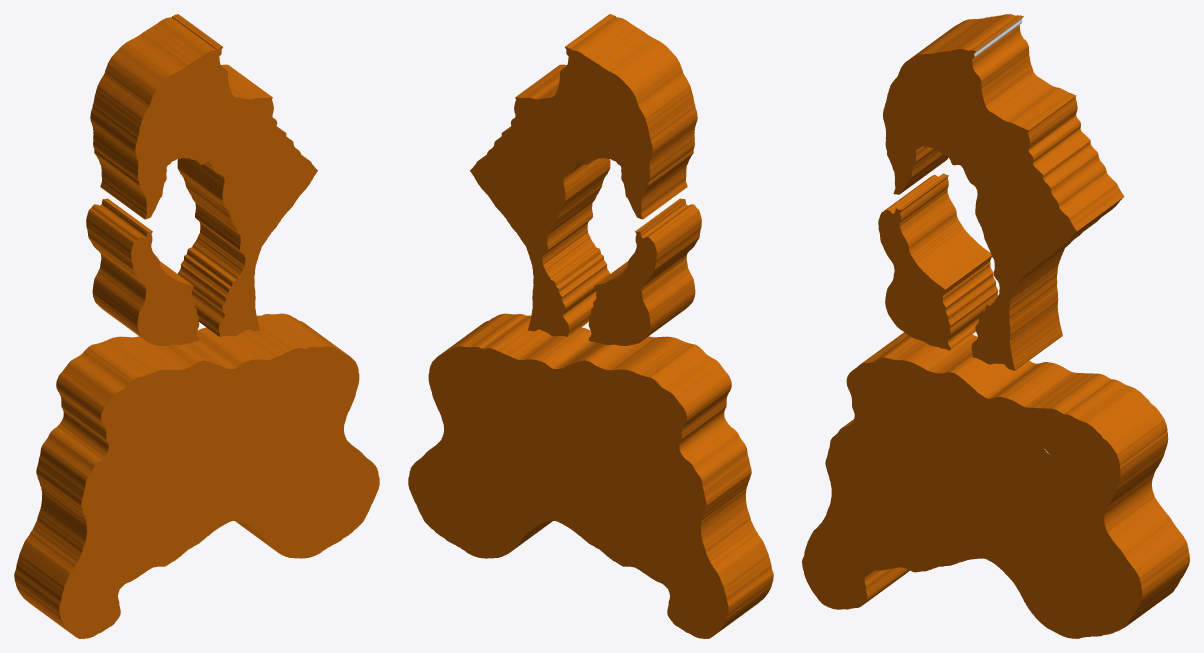
Rendered from anna_level1_floor.fbx.
3 views of the same model, side by side, from view 1: azimuth 30°, elevation 25°; view 2: azimuth 150°, elevation 25°; view 3: azimuth 330°, elevation 25° (orthographic). The views are drawn at different scales.
Visible parts, largest first — view 1: Model; view 2: Model; view 3: Model.
Boxes of the visible parts, x1,y1,x2,y2 form: Model: [14, 14, 379, 638]; Model: [408, 14, 773, 638]; Model: [802, 14, 1189, 638].
Size of the model in its own units: 3.14 by 5.22 by 0.761.
